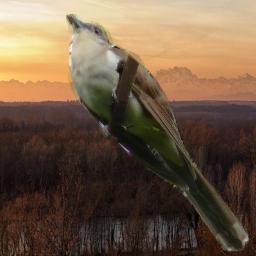Cuckoo: (66, 14, 249, 252)
